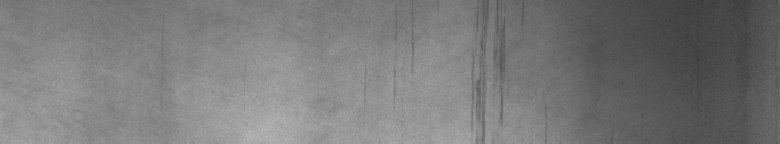ka: (412, 4, 505, 136)
